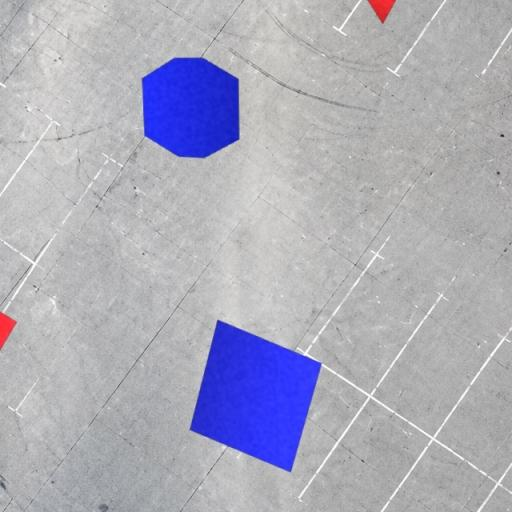BLUE_SQUARE: (189, 319, 322, 473)
